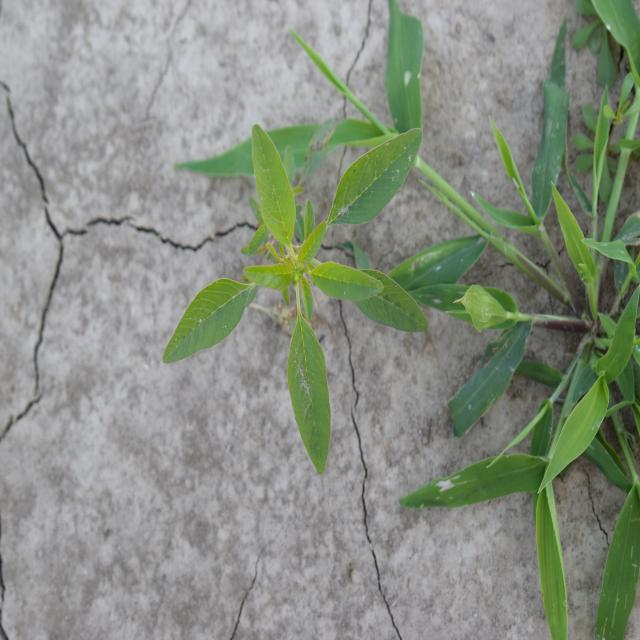Waterhemp: (162, 123, 430, 477)
